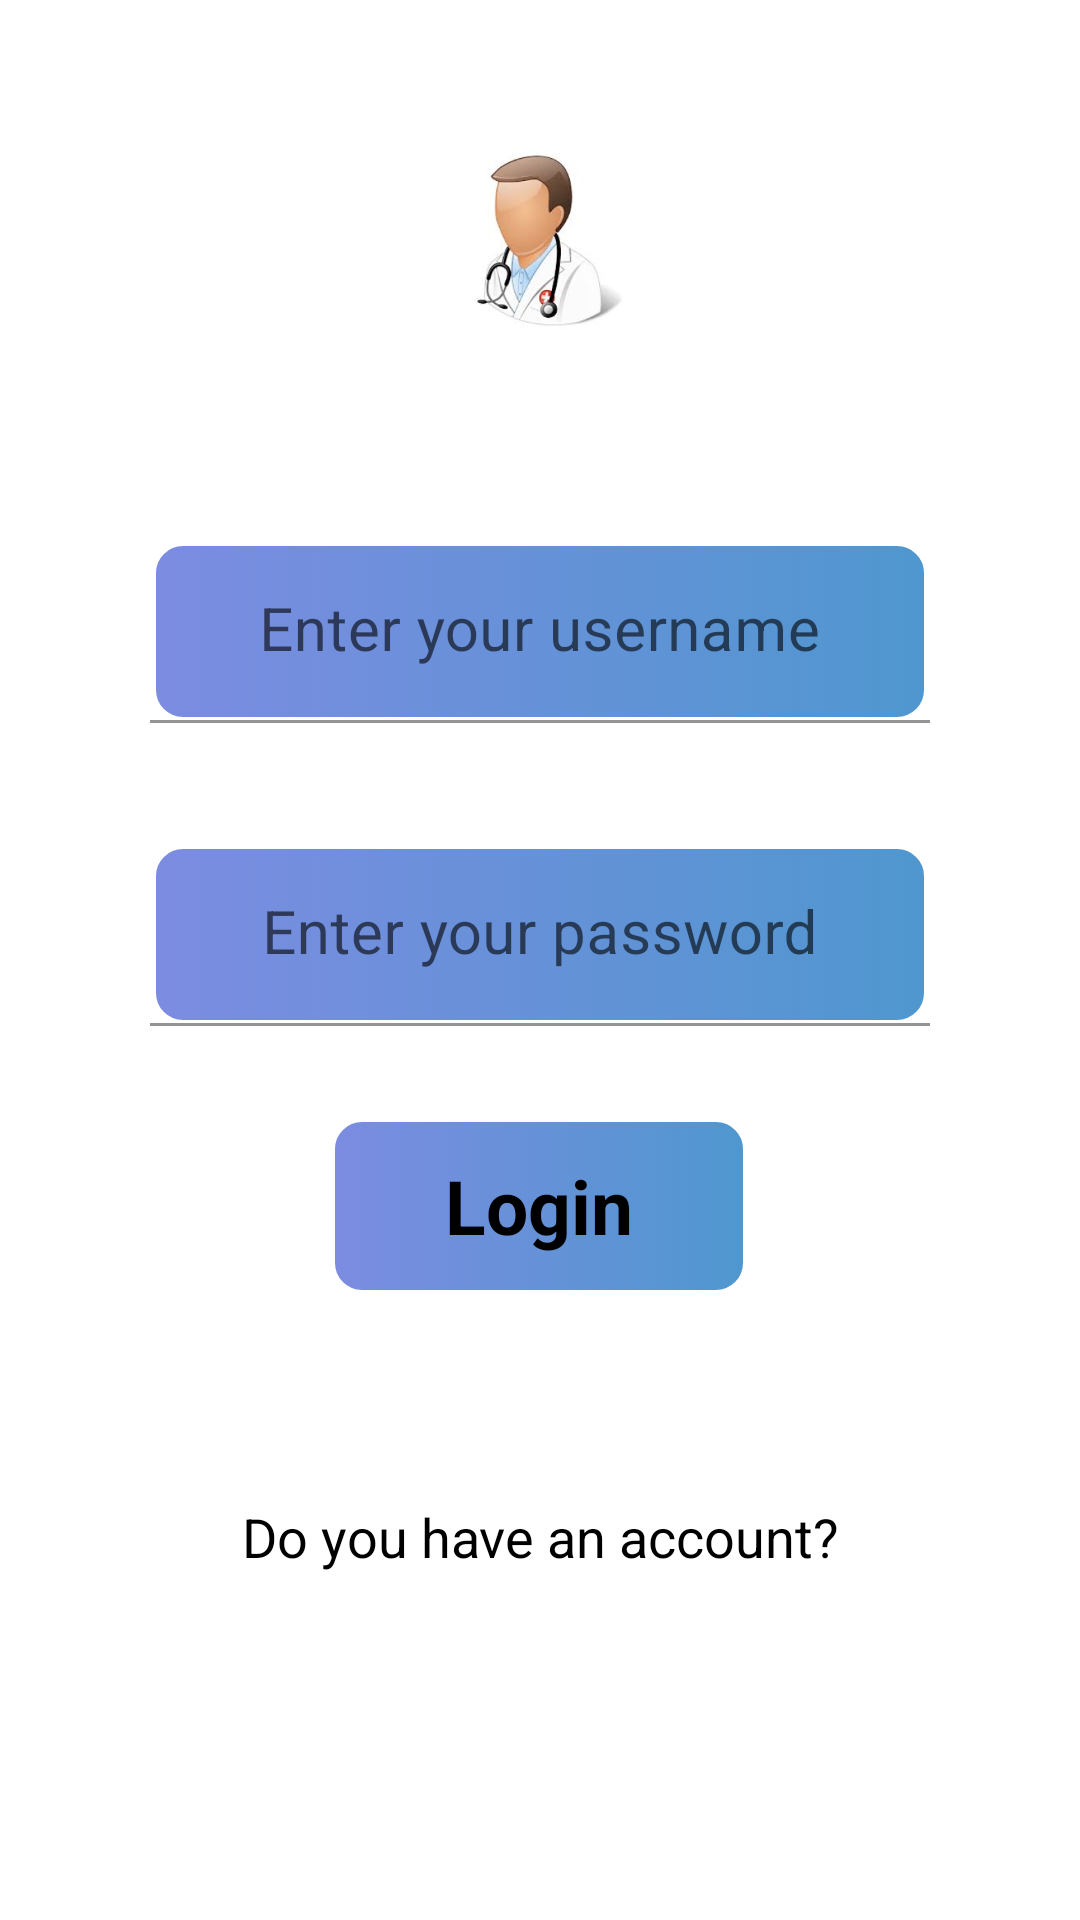

Locate icon controls on the screen. Image size 1080 × 1920, boxes as (x1=x1, y1=y1, x2=x2, y2=y2).
doctor: (x1=477, y1=155, x2=619, y2=325)
